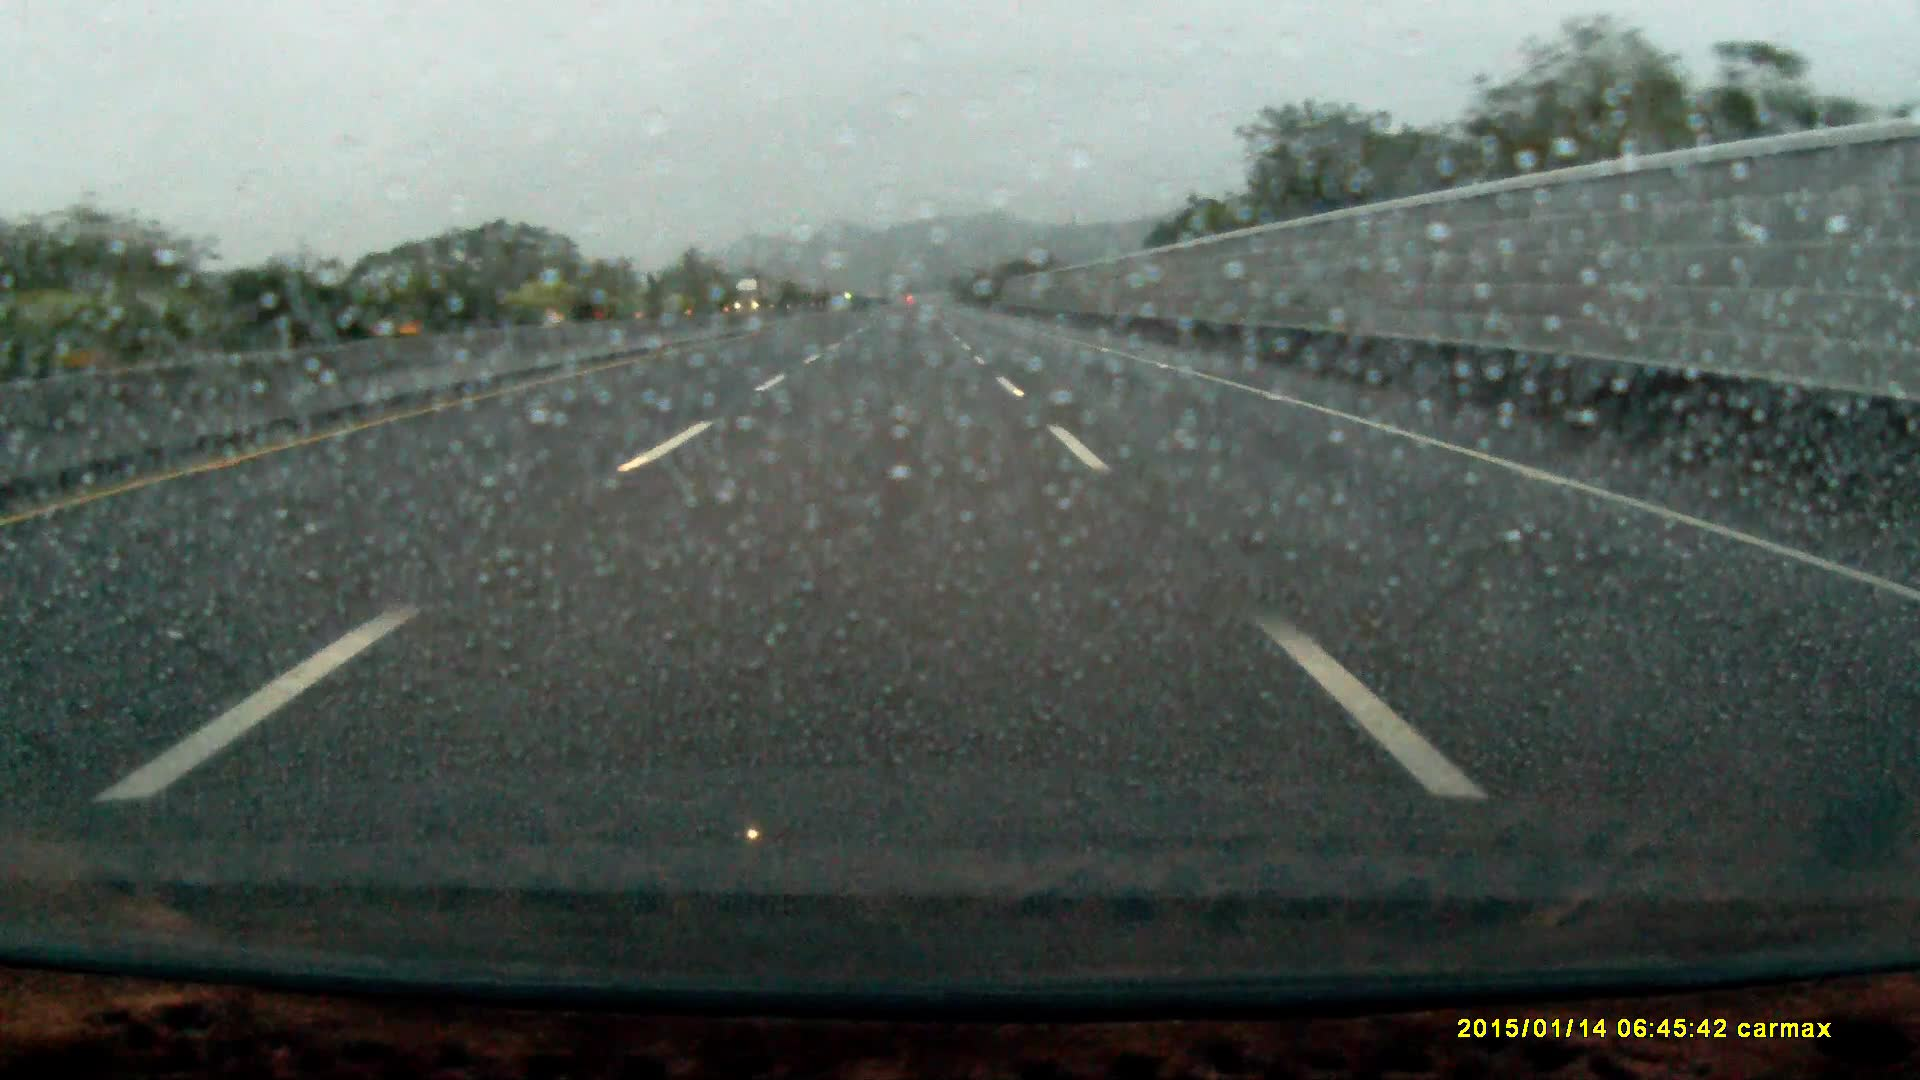vehicle: (735, 278, 770, 313)
